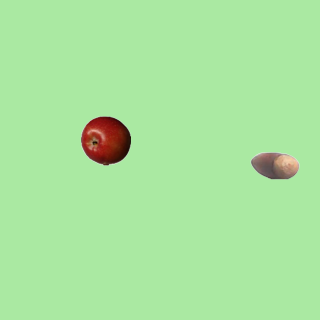Apple Braeburn: (80, 115, 130, 165)
Hazelnut: (249, 140, 299, 190)
